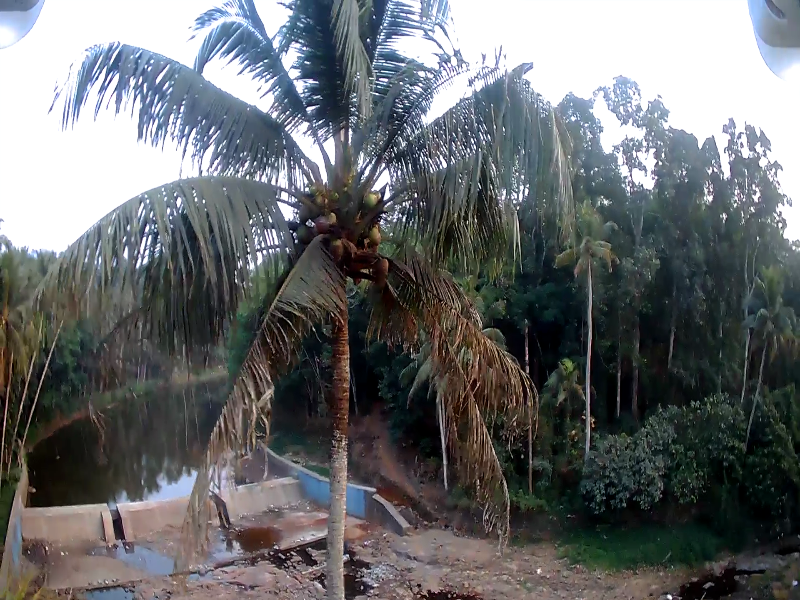coconut: (361, 189, 379, 207), (333, 240, 349, 255), (297, 202, 310, 220), (296, 223, 307, 240), (377, 257, 388, 273), (309, 196, 325, 207), (365, 227, 381, 235)
